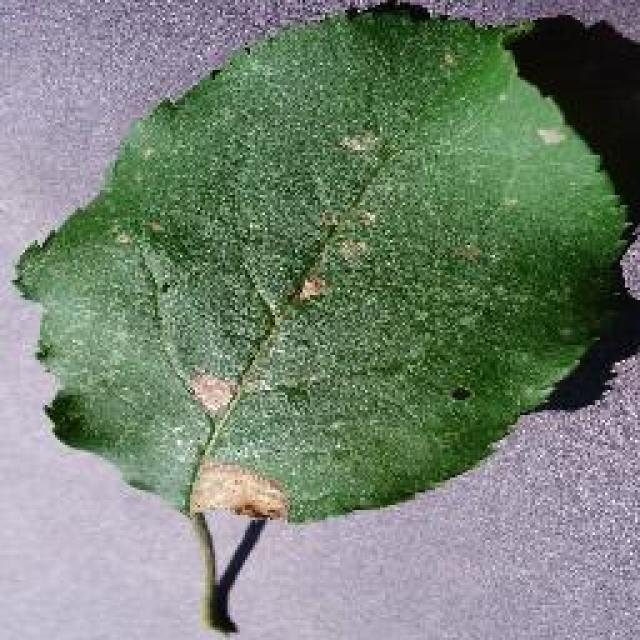Black_rot: (10, 0, 638, 635)
